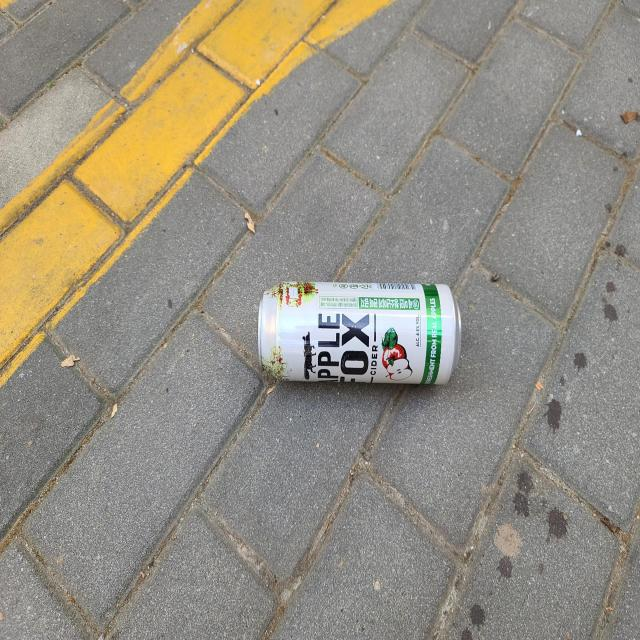can: (258, 281, 462, 385)
